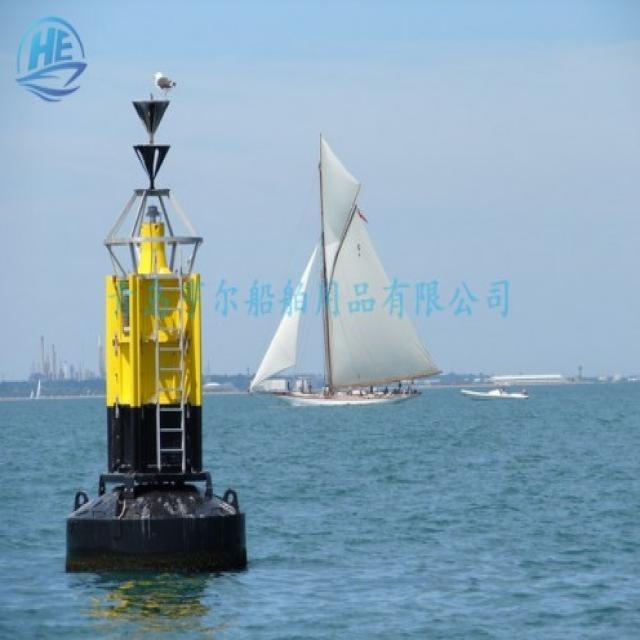buoy: (58, 51, 246, 564)
sailboat: (250, 128, 433, 405)
